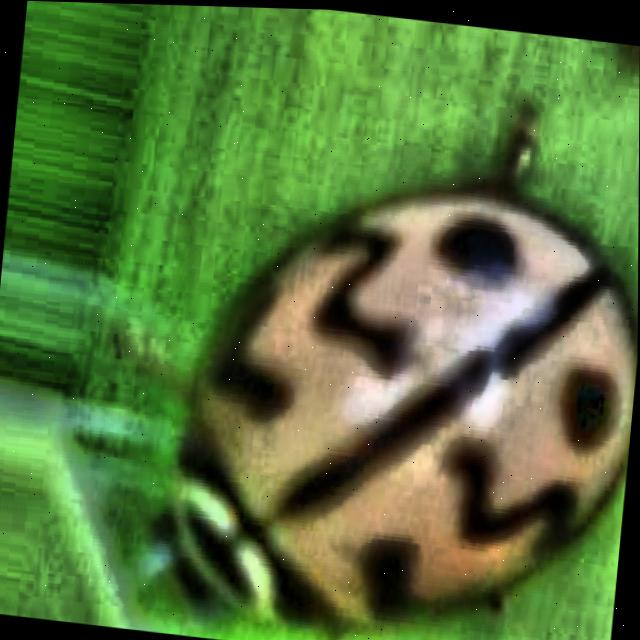Asian-Lady-beetle: (73, 27, 640, 640)
